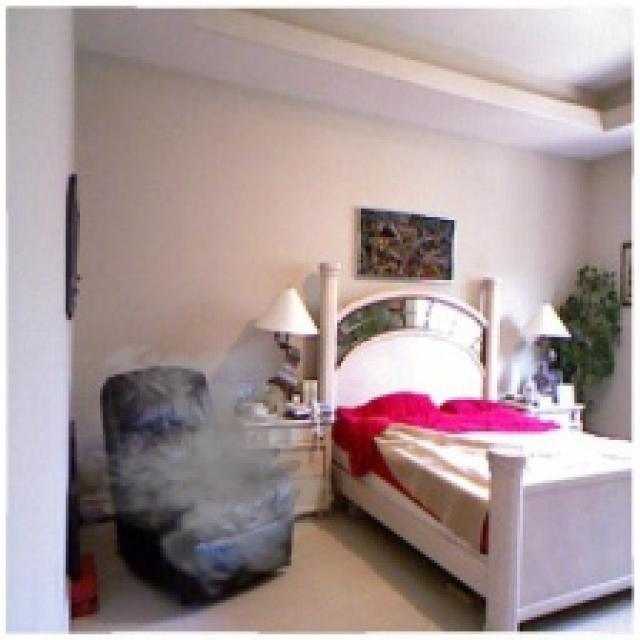smoke: (66, 337, 337, 600)
